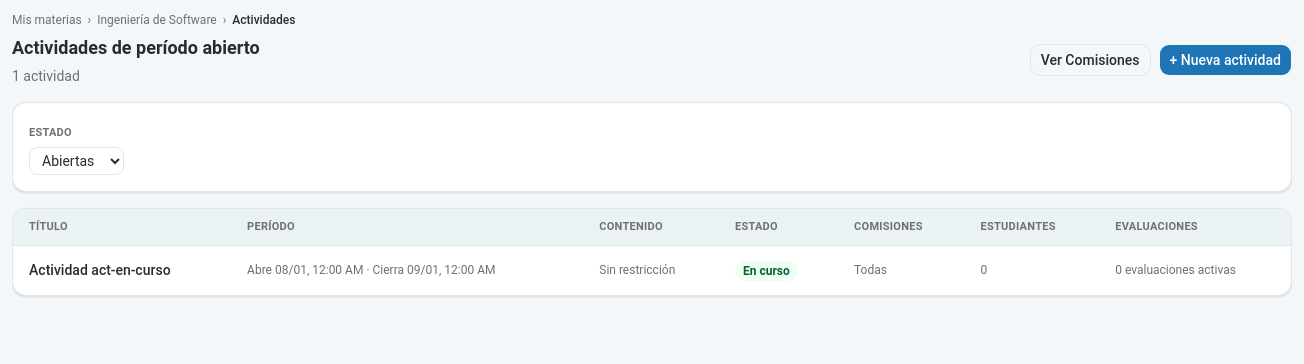
Test: Actividades › el filtro Todas muestra abiertas y cerradas juntas
Check: the text "Actividad act-en-curso" is shown, box [13,245,231,295]
Select "Todas" in the dropdown labelled "Estado" at {"x": 76, "y": 161}, box [29,147,124,175]
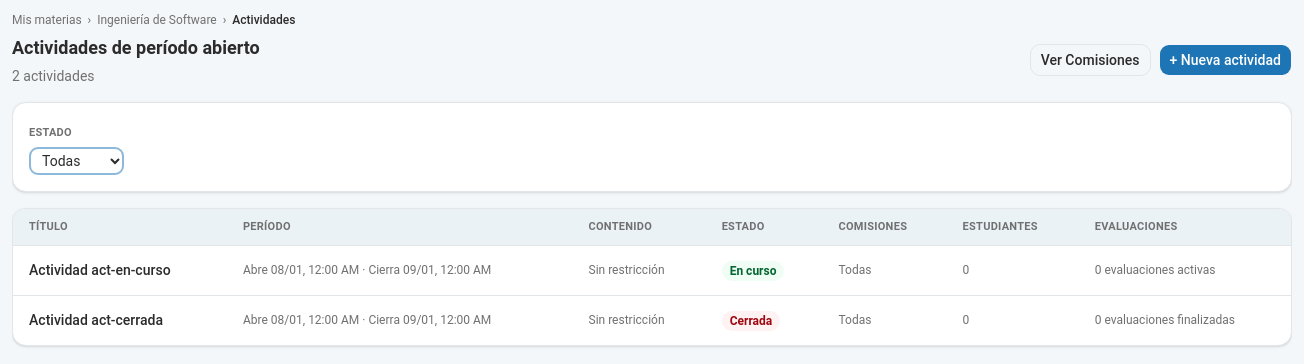
Check: the text "Actividad act-en-curso" is shown, box [13,245,227,295]
Check: the text "Actividad act-cerrada" is shown, box [13,295,227,345]
